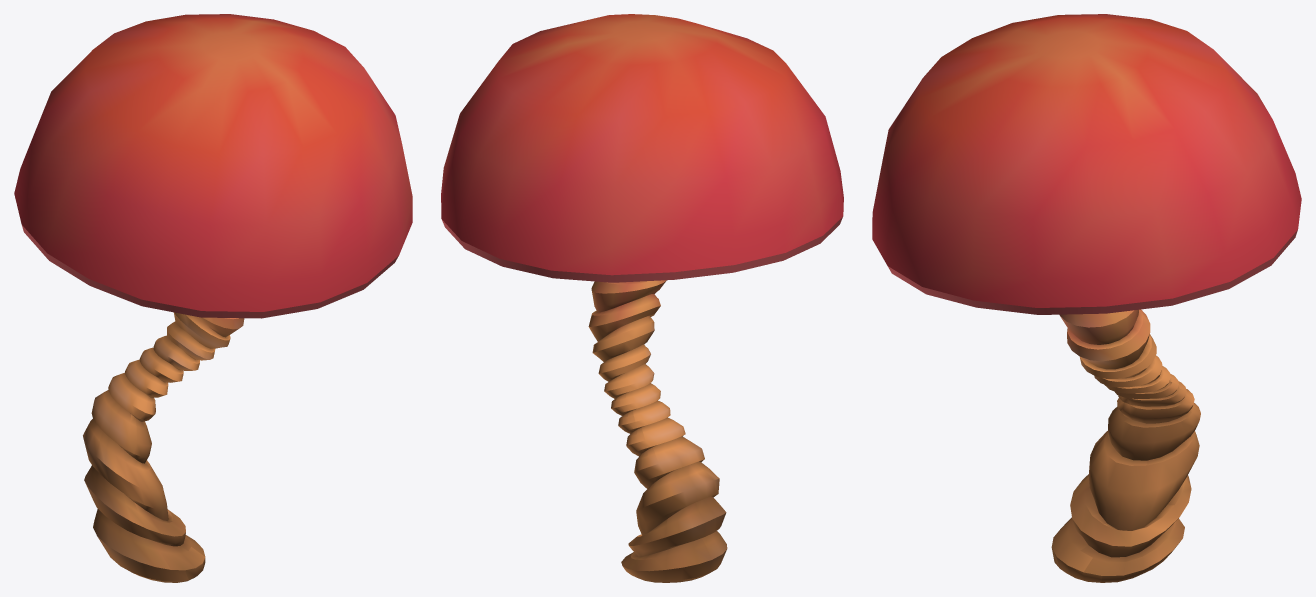
The model's file is Mushroom5.fbx.
3 views of the same model, side by side, from view 1: azimuth 30°, elevation 25°; view 2: azimuth 150°, elevation 25°; view 3: azimuth 270°, elevation 25° (orthographic). The views are drawn at different scales.
Visible parts, largest first — view 1: Mushroom1; view 2: Mushroom1; view 3: Mushroom1.
Boxes of the visible parts, x1=… form: Mushroom1: x1=14, y1=14, x2=412, y2=582; Mushroom1: x1=441, y1=14, x2=843, y2=582; Mushroom1: x1=872, y1=14, x2=1301, y2=582.
Size of the model in its own units: 1116 by 1602 by 1135.
